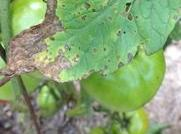Tomato leaf bacterial spot: (0, 0, 181, 79)
